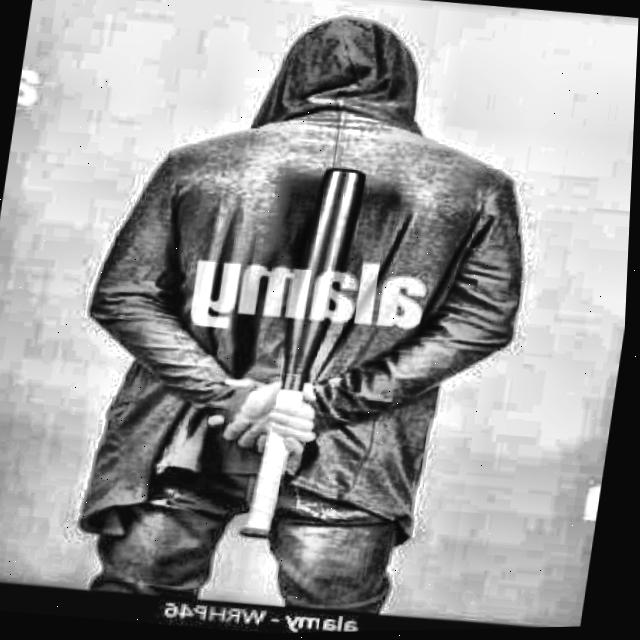robbery: (69, 15, 539, 617)
tongkat pemukul: (230, 148, 371, 553)
